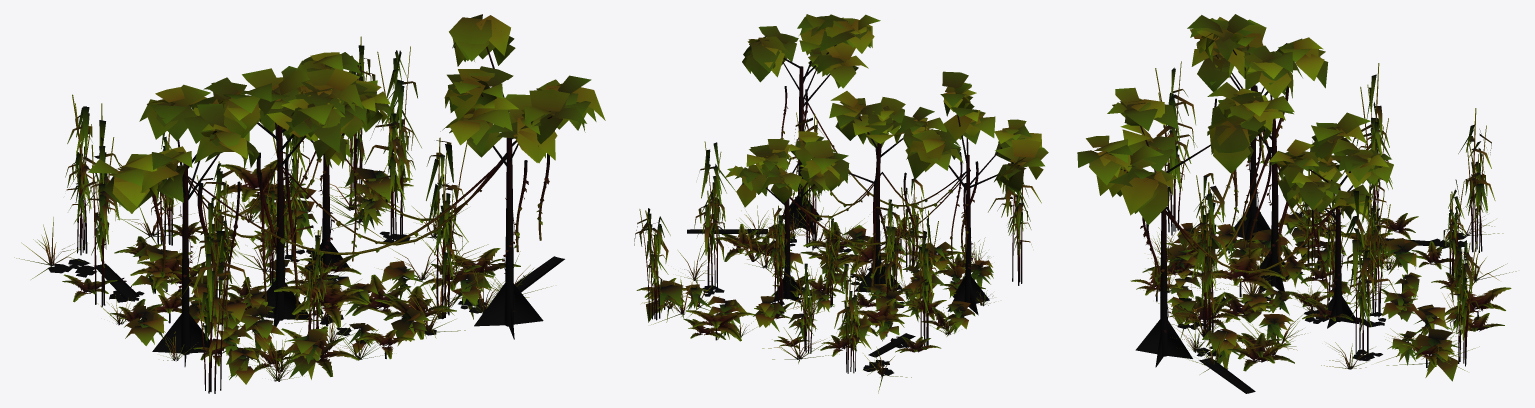
Rendered from patch_tangle.glb.
3 renders of one model, left to right at view 1: azimuth 30°, elevation 25°; view 2: azimuth 150°, elevation 25°; view 3: azimuth 270°, elevation 25°, orthographic. The views are drawn at different scales.
Visible parts, largest first — view 1: patch_tangle; view 2: patch_tangle; view 3: patch_tangle.
Part boxes in pixels (x1,y1,x2,y2): patch_tangle: (14, 14, 605, 393); patch_tangle: (634, 14, 1048, 393); patch_tangle: (1077, 14, 1516, 393).
Size of the model in its own units: 22.55 by 13.51 by 21.03.
1 material, 1 textured.
